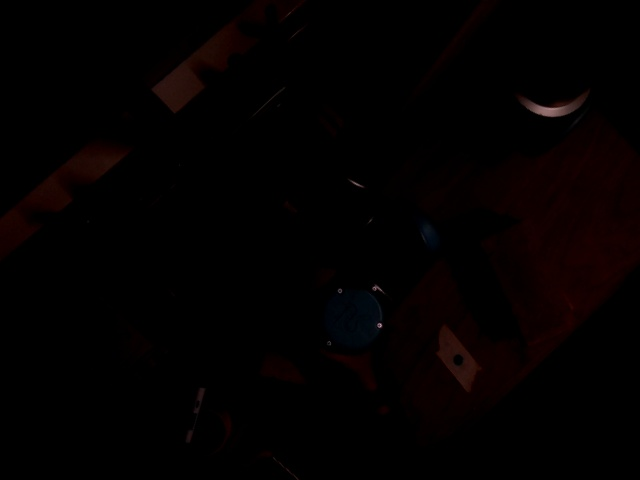brick: (482, 219, 576, 344)
